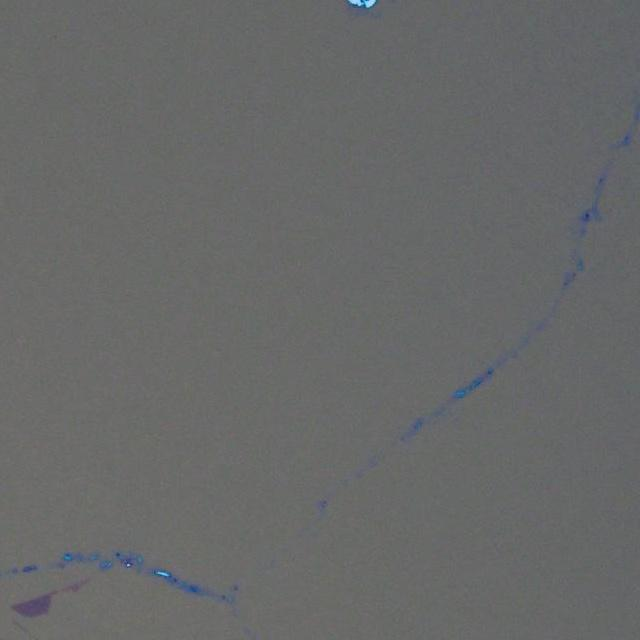monolayer-eWW4: (12, 592, 50, 618)
